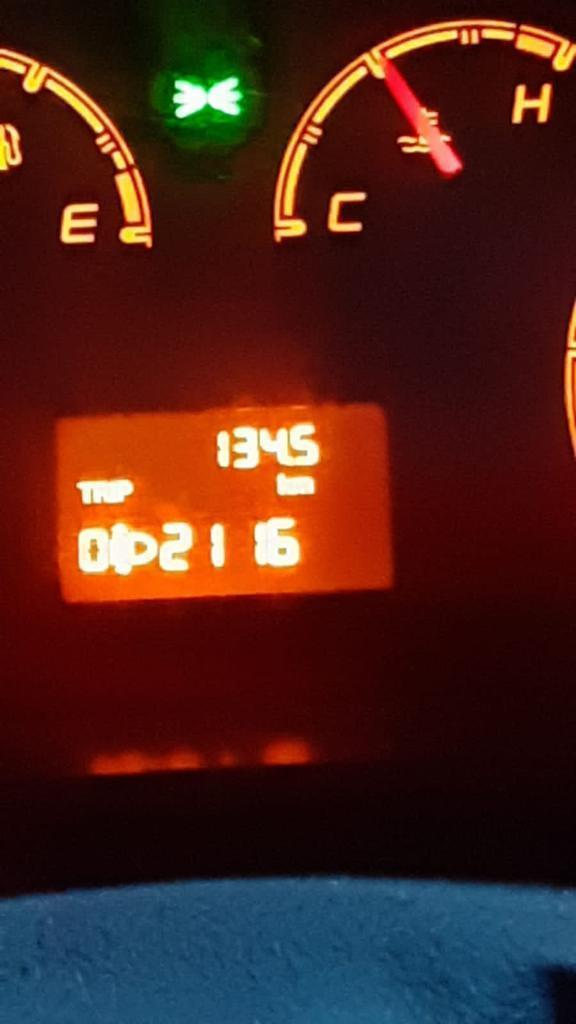,: (286, 452, 293, 468)
0: (77, 523, 107, 576)
1: (208, 519, 228, 572), (213, 425, 231, 471), (254, 516, 269, 570)
2: (159, 517, 197, 575)
3: (233, 423, 257, 470)
4: (258, 425, 288, 466)
5: (290, 420, 323, 467)
6: (268, 514, 302, 568)
X: (292, 476, 317, 496), (74, 479, 92, 505), (275, 470, 291, 499), (118, 477, 135, 503), (93, 478, 107, 504), (109, 477, 118, 504)
odometer: (43, 394, 410, 623)
